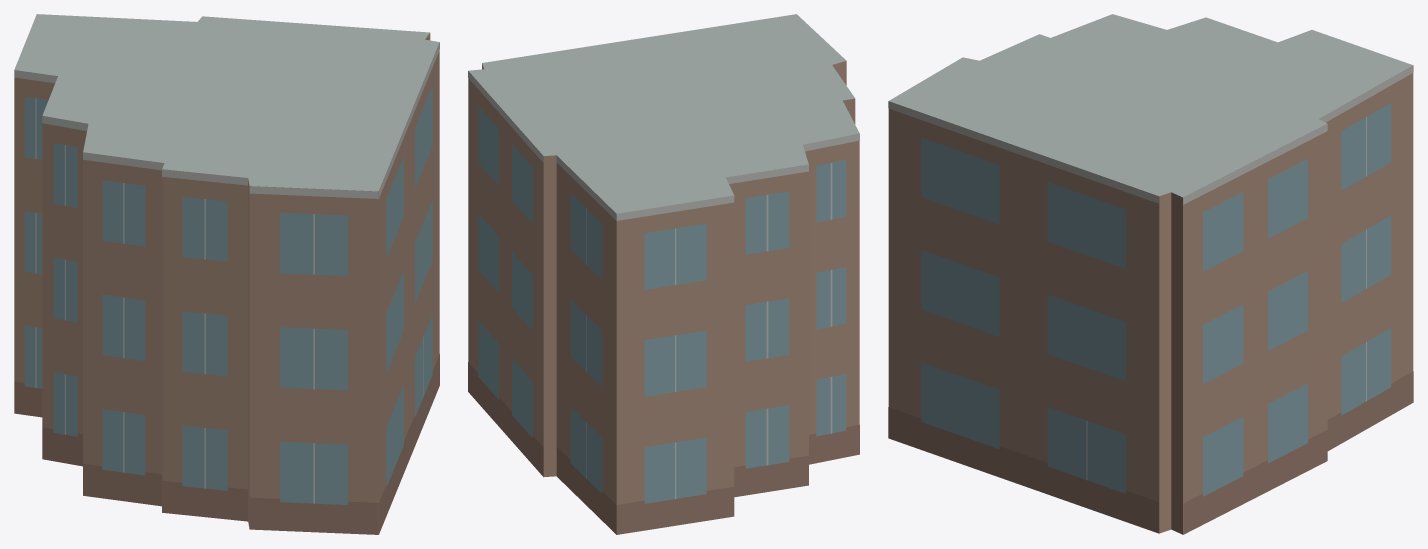
Rendered from survey-upis-32901483.glb.
The picture shows the model from 3 angles, left to right: view 1: azimuth 30°, elevation 25°; view 2: azimuth 150°, elevation 25°; view 3: azimuth 270°, elevation 25°; orthographic projection. The views are drawn at different scales.
Visible parts, largest first — view 1: survey-upis-32901483.tmp; view 2: survey-upis-32901483.tmp; view 3: survey-upis-32901483.tmp.
Part boxes in pixels (x1,y1,x2,y2): survey-upis-32901483.tmp: [14, 14, 439, 534]; survey-upis-32901483.tmp: [468, 14, 859, 534]; survey-upis-32901483.tmp: [888, 14, 1413, 534].
Bounding box in the file's own units: 12.96 × 11.1 × 15.66.
